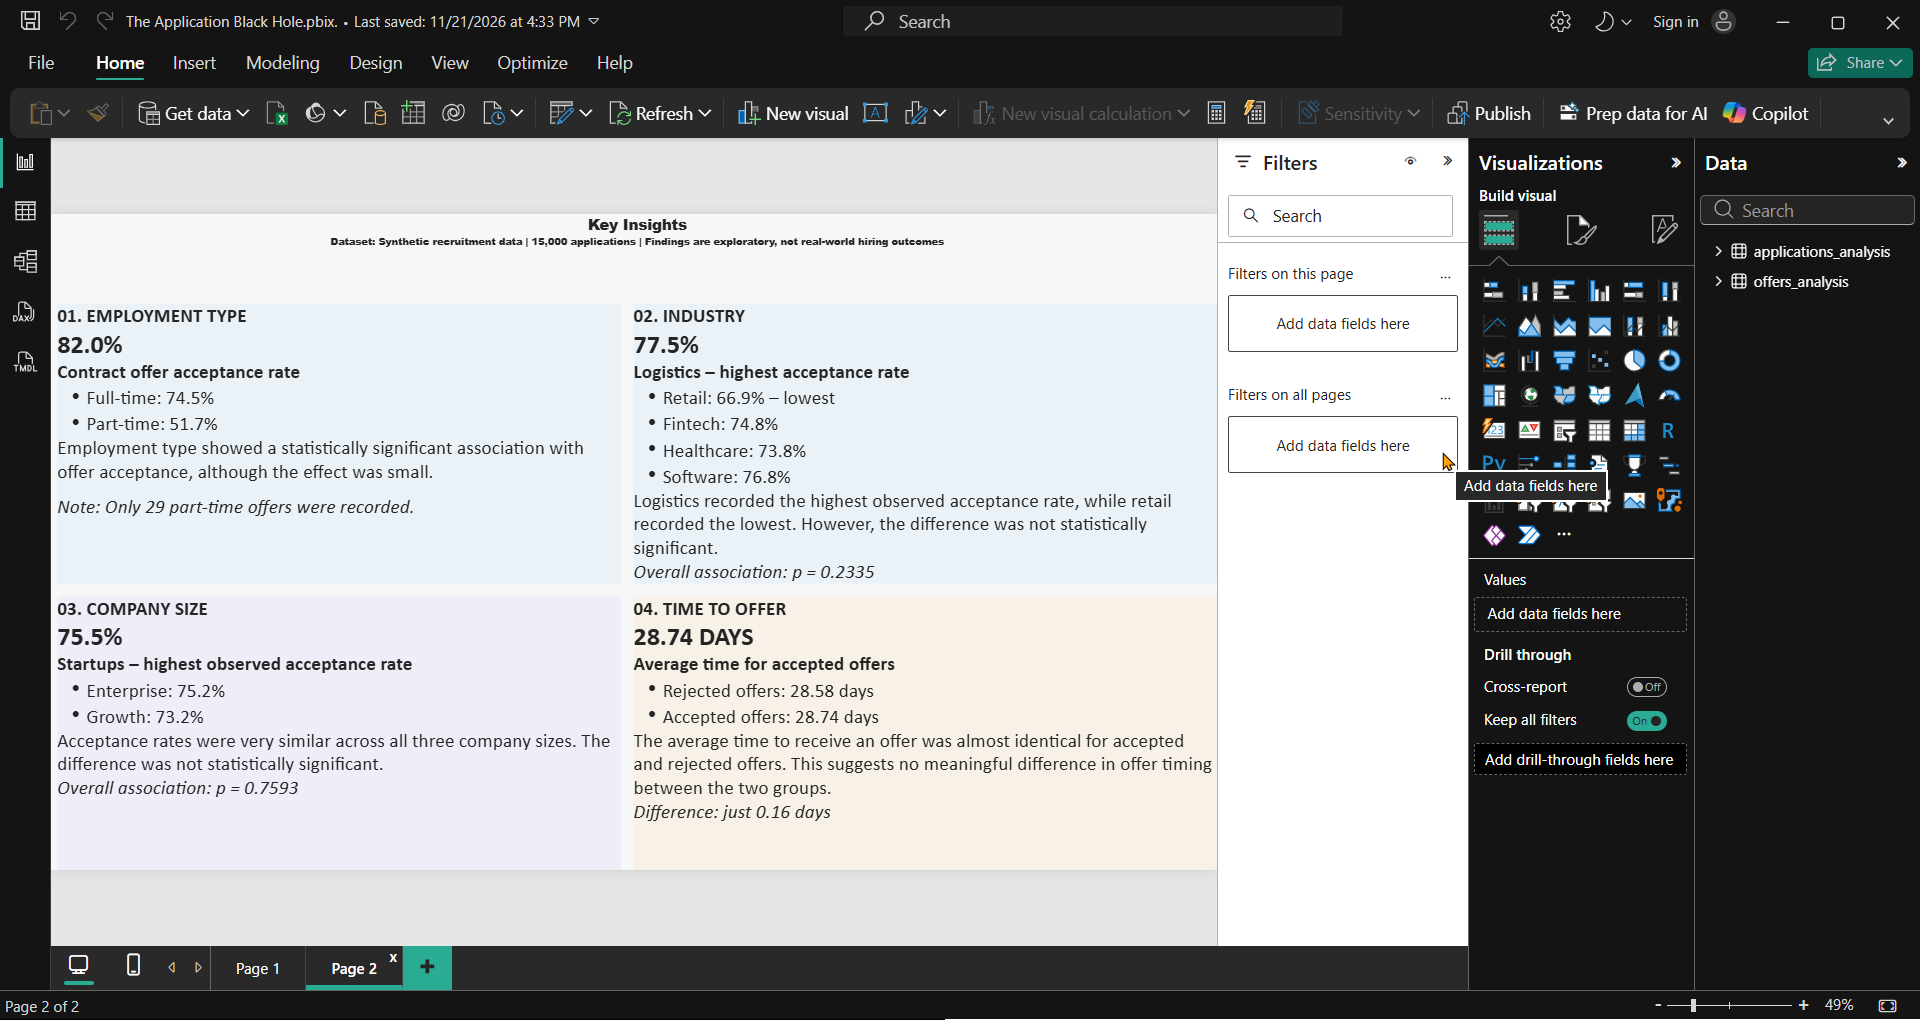

Layout of this report page (visuals, bound fields, positions):
{"tool":"powerbi","page":{"name":"Page 2","canvas":[1920,1080],"ordinal":1},"visuals":[{"type":"textbox","box":[10.3,0,1910.1,127.6],"z":0},{"type":"textbox","box":[10.3,148.2,928.3,461.1],"z":1},{"type":"textbox","box":[10.3,629.8,928.3,450.8],"z":2},{"type":"textbox","box":[959,148,961,461],"z":3},{"type":"textbox","box":[959.2,629.8,961.2,450.8],"z":4}]}

Visuals, with their boxes on the page's 1920x1080 design canvas (x1, y1, x2, y2). These are canvas units, not pixel positions in the 1920x1020 screenshot, which may show the page scaled, cropped or inside an application window:
textbox: {"x1": 10, "y1": 0, "x2": 1920, "y2": 128}
textbox: {"x1": 10, "y1": 148, "x2": 939, "y2": 609}
textbox: {"x1": 10, "y1": 630, "x2": 939, "y2": 1081}
textbox: {"x1": 959, "y1": 148, "x2": 1920, "y2": 609}
textbox: {"x1": 959, "y1": 630, "x2": 1920, "y2": 1081}
